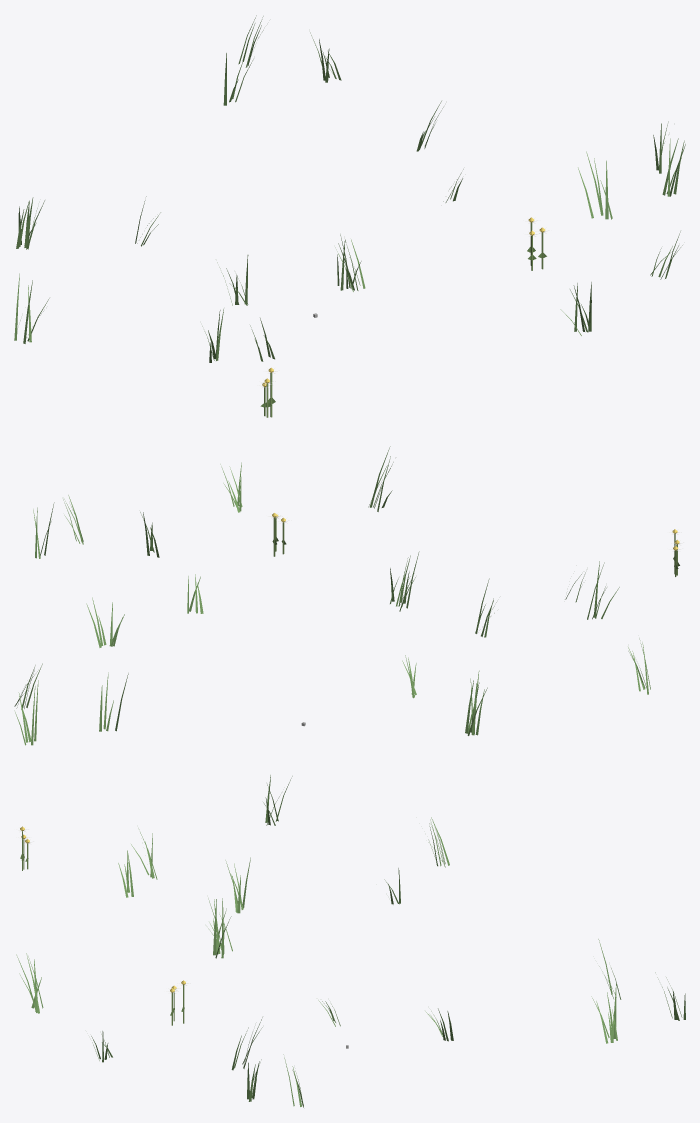
Rendered from rv_meadow_a.gltf.
3 renders of one model, top to bottom at view 1: azimuth 30°, elevation 25°; view 2: azimuth 150°, elevation 25°; view 3: azimuth 270°, elevation 25°, orthographic. The views are drawn at different scales.
Visible parts, largest first — view 1: RV_MeadowA; view 2: RV_MeadowA; view 3: RV_MeadowA.
Boxes of the visible parts, x1=… form: RV_MeadowA: x1=14, y1=15, x2=685, y2=417; RV_MeadowA: x1=14, y1=446, x2=683, y2=745; RV_MeadowA: x1=16, y1=775, x2=685, y2=1107.
Bounding box in the file's own units: 4.83 × 1.03 × 4.71.
